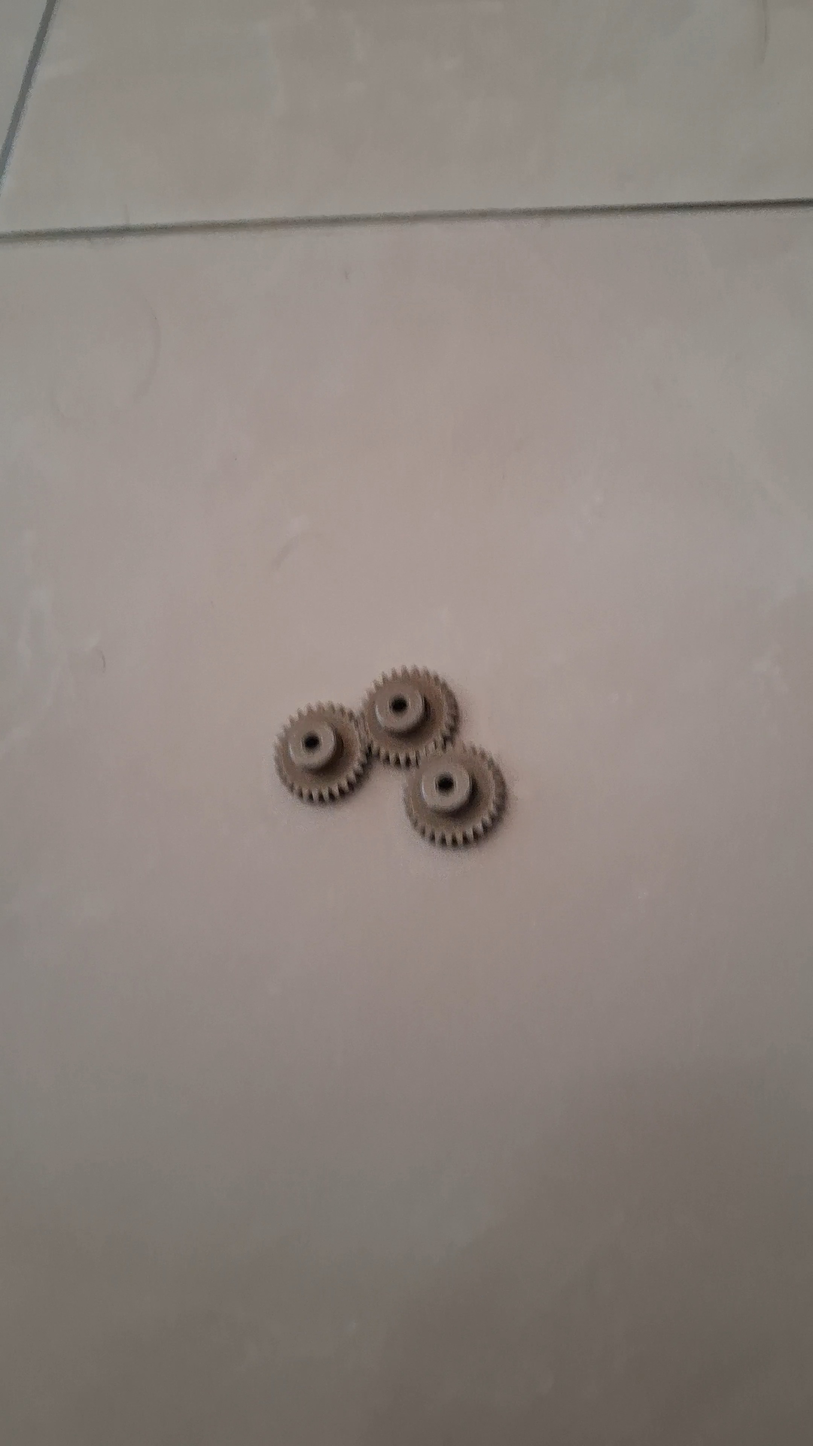spur gear: (404, 745, 505, 847), (362, 668, 457, 766), (274, 703, 368, 802)
